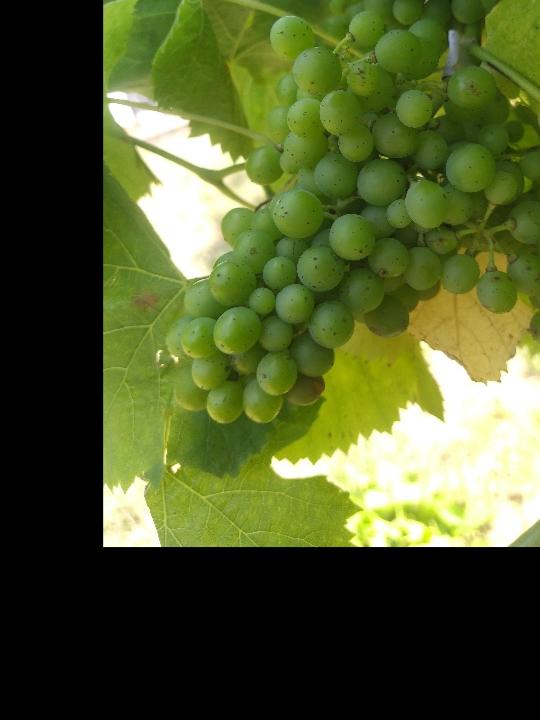grape: (160, 9, 540, 427)
